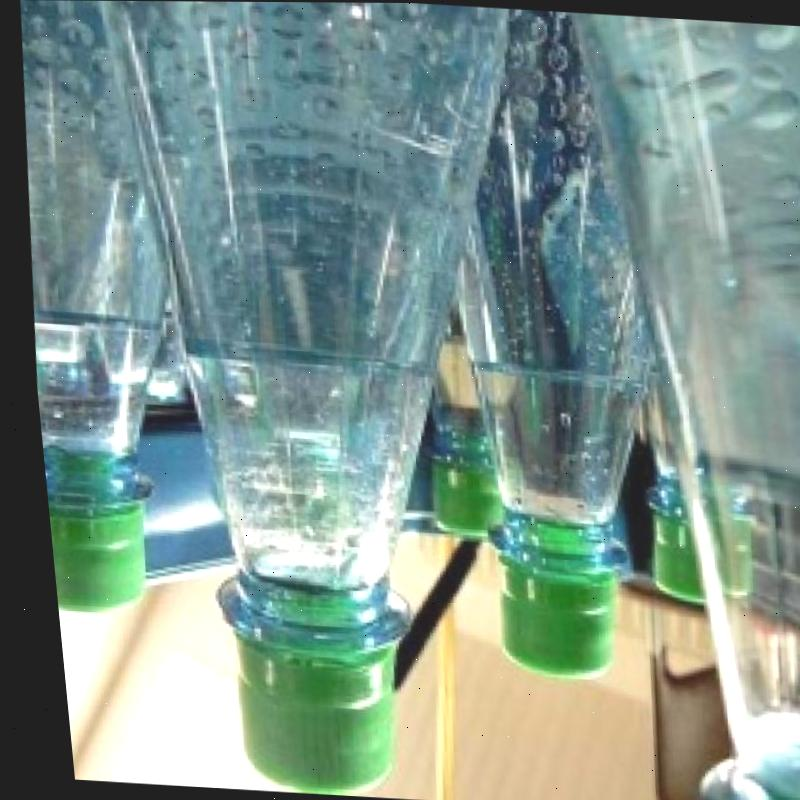botella: (51, 0, 572, 800), (538, 11, 800, 800), (408, 4, 690, 681), (0, 0, 208, 618), (403, 305, 531, 539), (625, 371, 752, 602)
